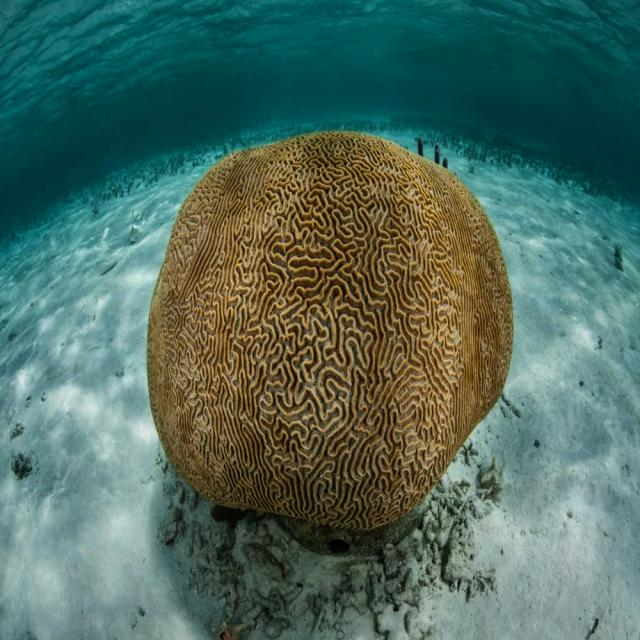Coral: (145, 130, 514, 533)
